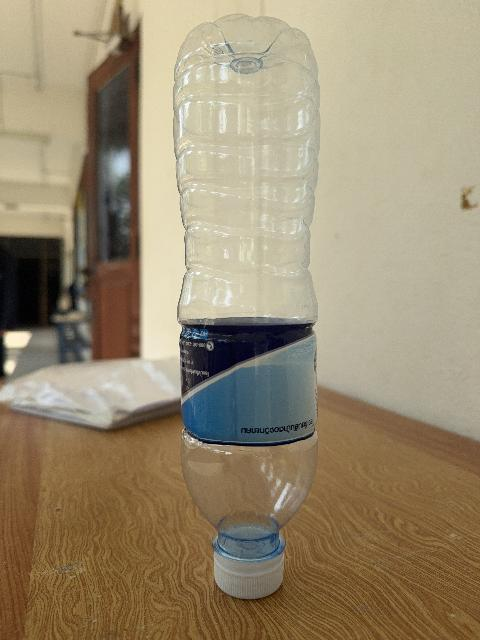bottle: (174, 15, 319, 598)
